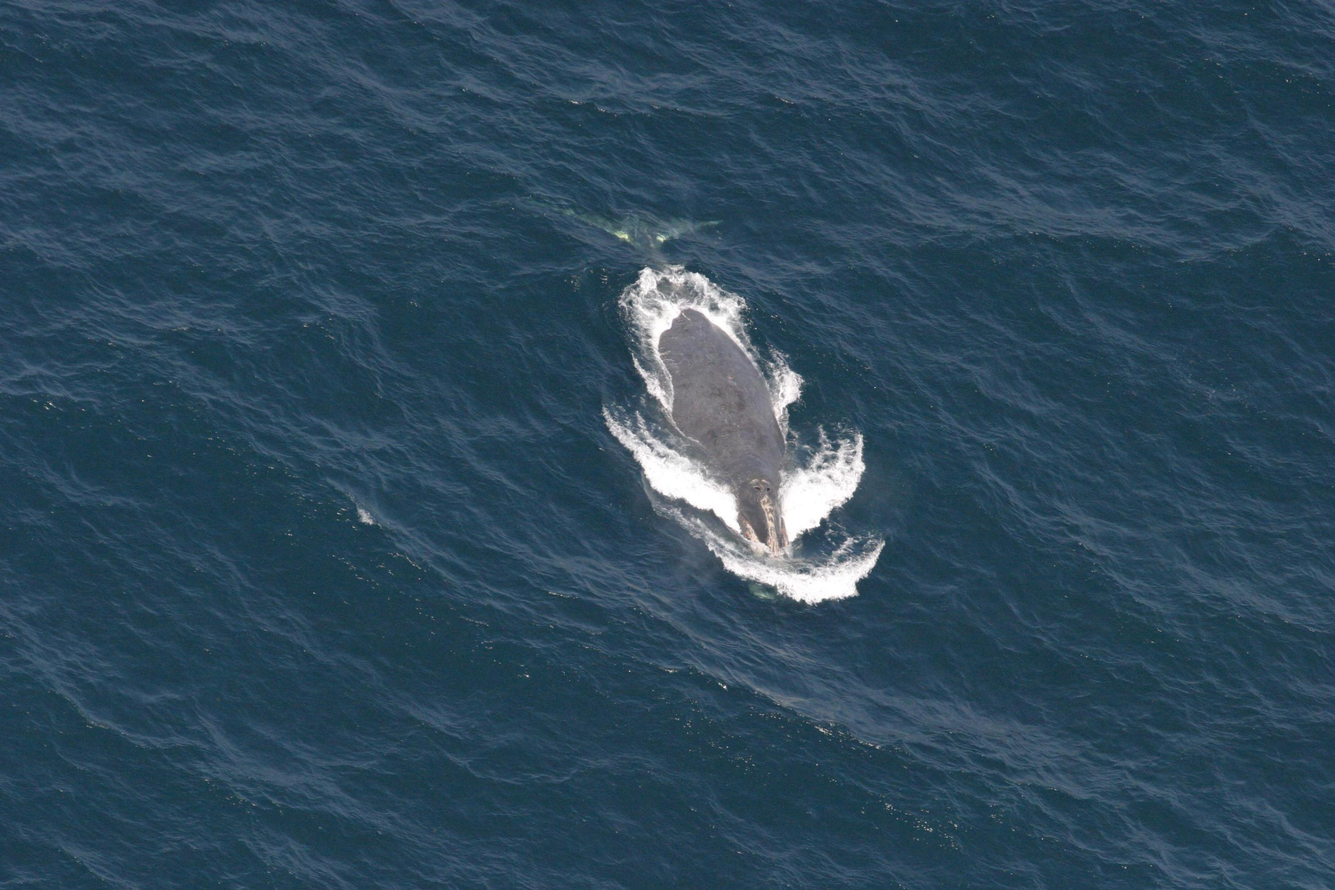whale: (526, 191, 816, 615)
